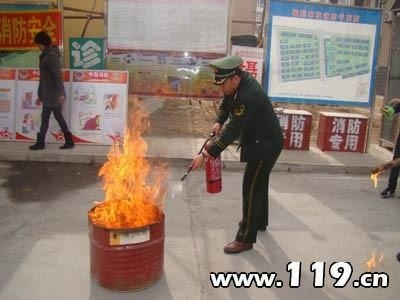fire: (89, 100, 168, 228), (362, 250, 386, 271), (369, 168, 383, 187)
